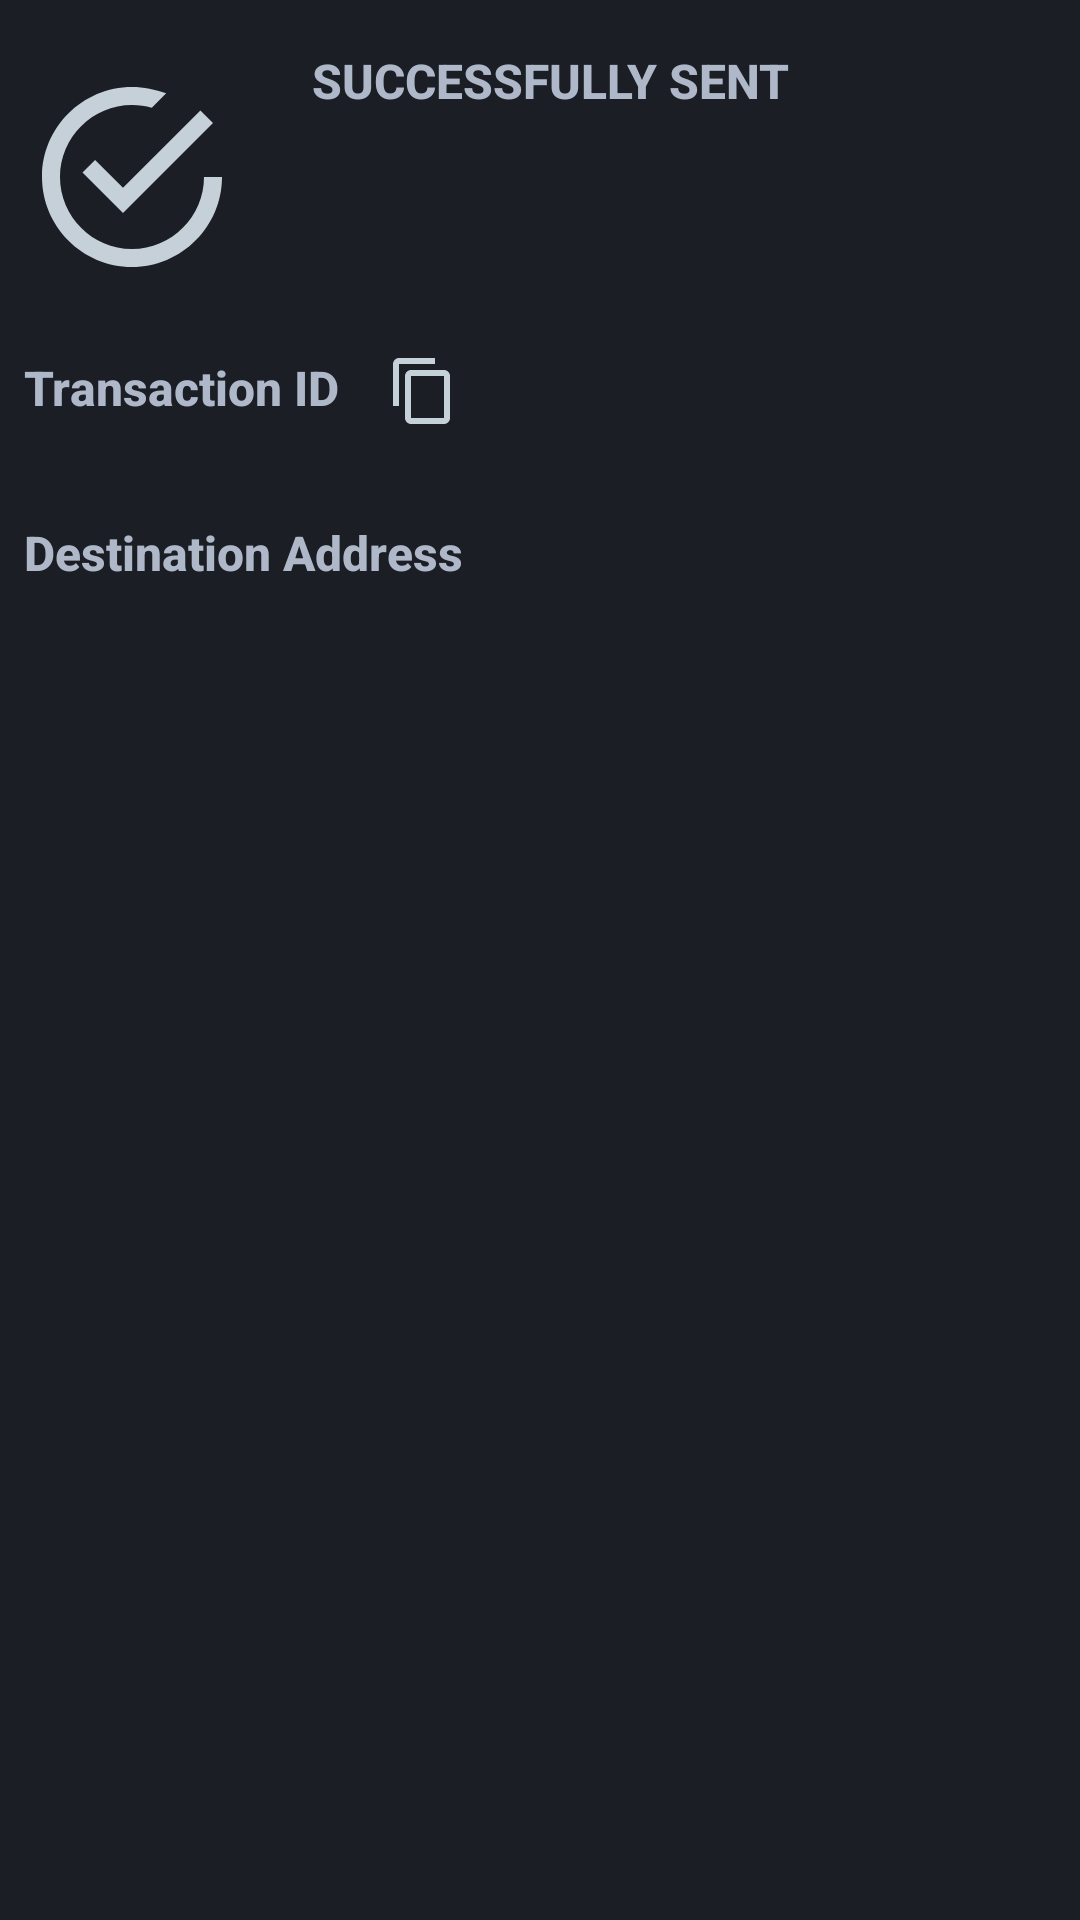

Named icons in this screenshot (1080×1920) and their bounding boxes, bbox(x1, y1, x2, y2):
check circle: bbox(42, 87, 222, 267)
